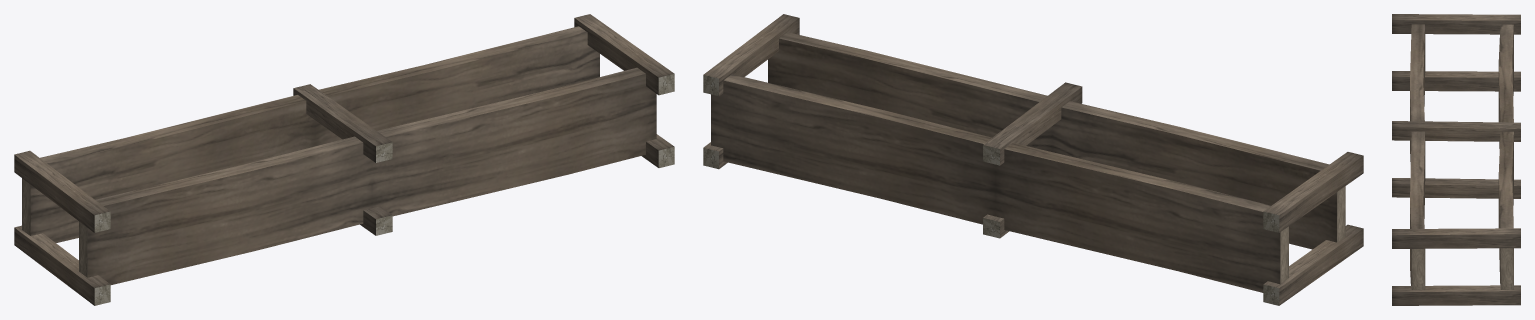
Rendered from Shelf_D.fbx.
The picture shows the model from 3 angles, left to right: view 1: azimuth 30°, elevation 25°; view 2: azimuth 150°, elevation 25°; view 3: azimuth 270°, elevation 25°; orthographic projection. The views are drawn at different scales.
Visible parts, largest first — view 1: Shelf_D; view 2: Shelf_D; view 3: Shelf_D.
Part boxes in pixels (left/top/right/bottom): Shelf_D: left=14, top=14, right=674, bottom=305; Shelf_D: left=703, top=14, right=1363, bottom=305; Shelf_D: left=1392, top=14, right=1520, bottom=305.
Size of the model in its own units: 6.65 by 1 by 1.64.
